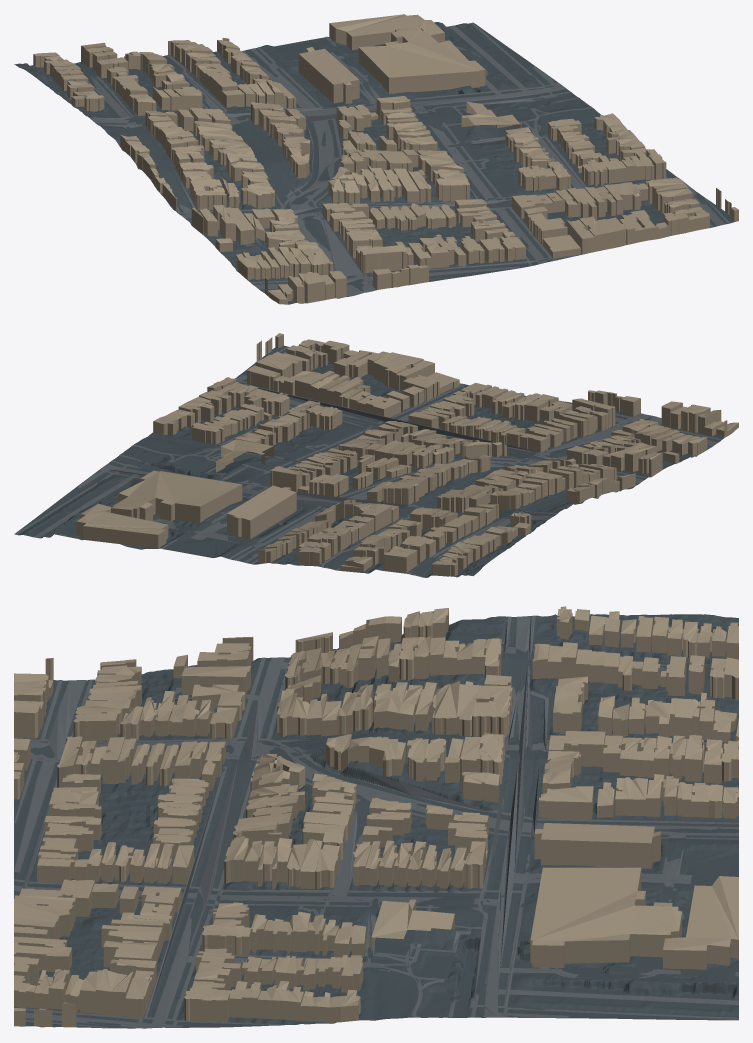
File: epsg26910-1431-10886.lod0.glb
3 renders of one model, top to bottom at view 1: azimuth 30°, elevation 25°; view 2: azimuth 150°, elevation 25°; view 3: azimuth 270°, elevation 25°, orthographic. The views are drawn at different scales.
Visible parts, largest first — view 1: epsg26910-1431-10886-lod0; view 2: epsg26910-1431-10886-lod0; view 3: epsg26910-1431-10886-lod0.
Part boxes in pixels (bbox=[...]): epsg26910-1431-10886-lod0: bbox=[14, 14, 738, 304]; epsg26910-1431-10886-lod0: bbox=[14, 333, 738, 577]; epsg26910-1431-10886-lod0: bbox=[14, 606, 738, 1028].
Size of the model in its own units: 384 by 71.42 by 384.
